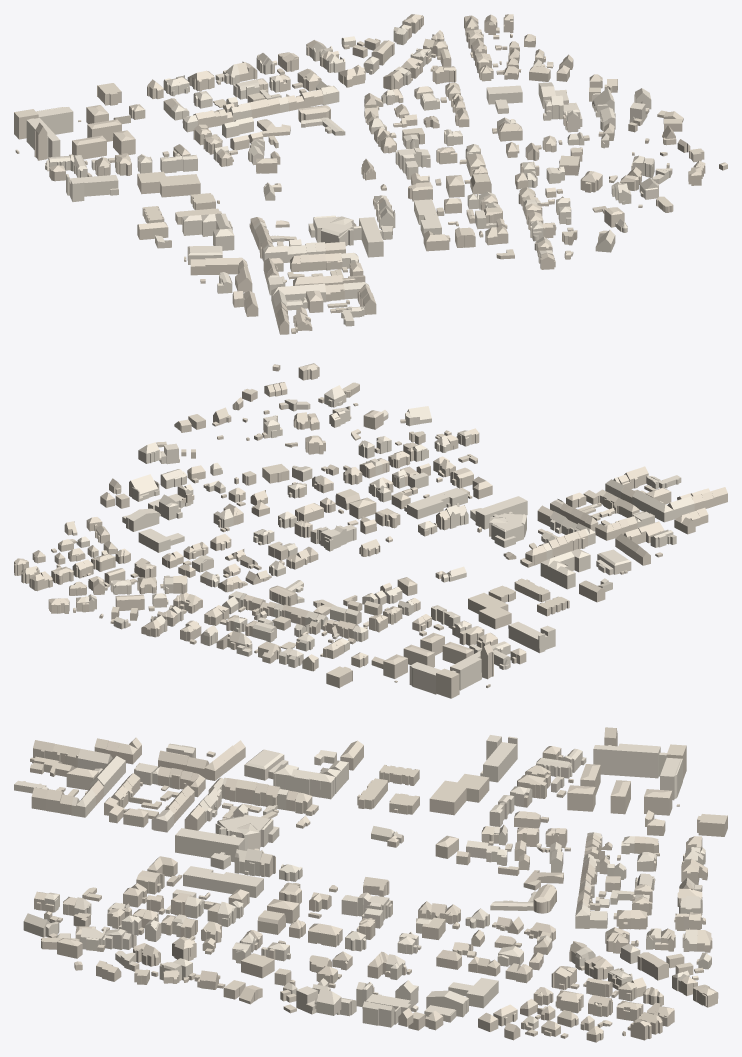
3 views of the same model, one above another, from view 1: azimuth 30°, elevation 25°; view 2: azimuth 150°, elevation 25°; view 3: azimuth 270°, elevation 25° (orthographic). The views are drawn at different scales.
Size of the model in its own units: 625 by 71.41 by 651.
